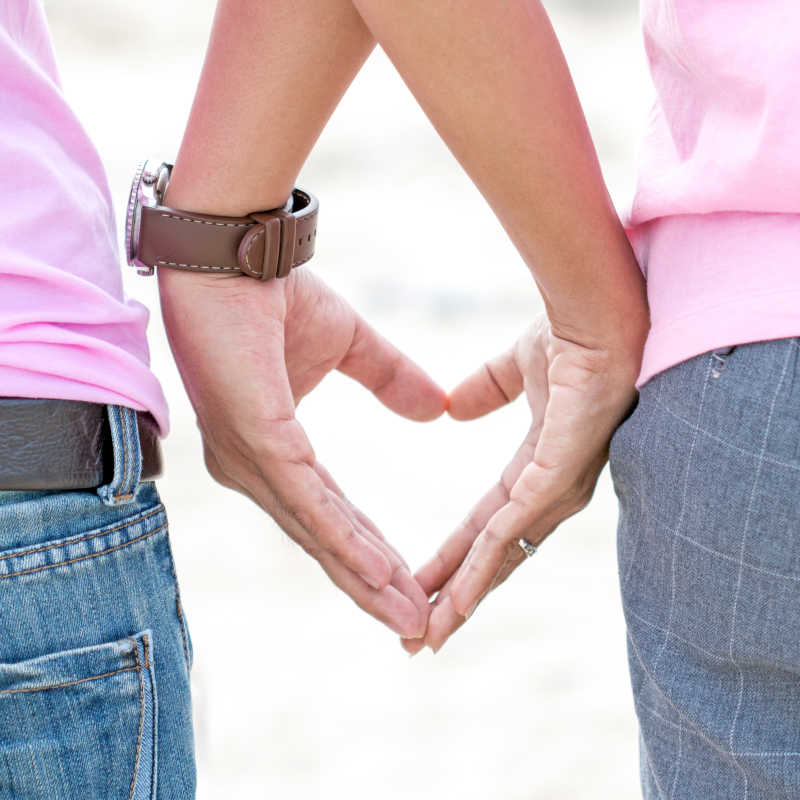no-phone: (103, 218, 439, 659), (403, 274, 685, 678)
